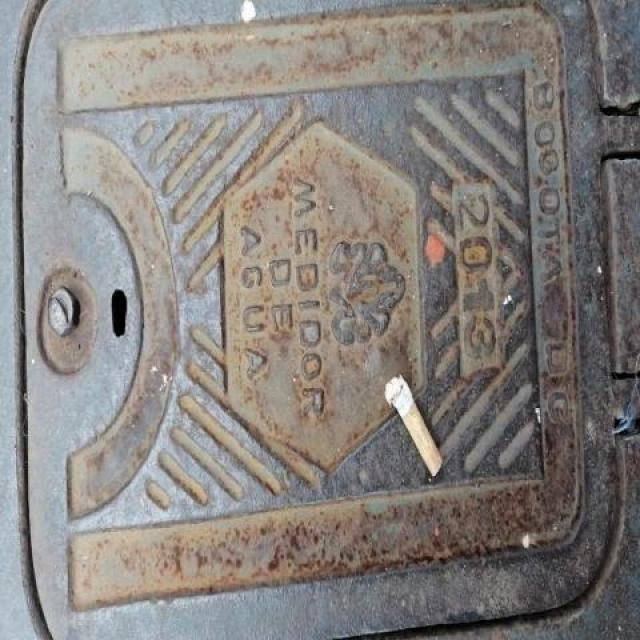non-organic waste: (381, 373, 447, 480)
